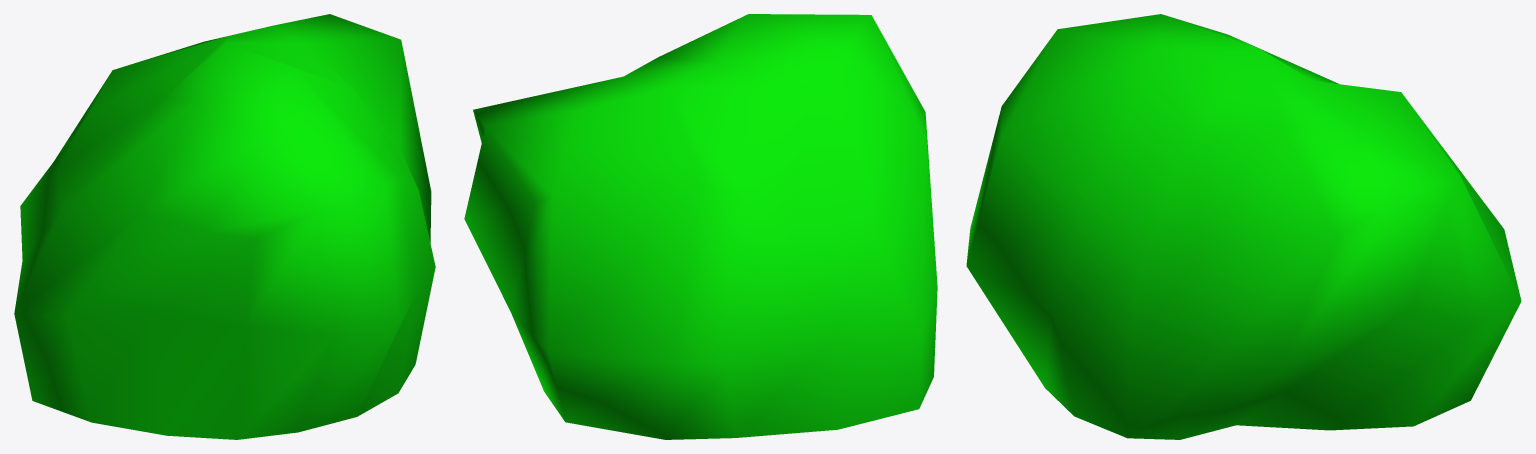
File: m_rock1.fbx
3 views of the same model, side by side, from view 1: azimuth 30°, elevation 25°; view 2: azimuth 150°, elevation 25°; view 3: azimuth 270°, elevation 25° (orthographic). The views are drawn at different scales.
Visible parts, largest first — view 1: m_rock1; view 2: m_rock1; view 3: m_rock1.
Part boxes in pixels (left/top/right/bottom): m_rock1: left=14, top=14, right=435, bottom=439; m_rock1: left=464, top=14, right=937, bottom=439; m_rock1: left=966, top=14, right=1521, bottom=439.
Bounding box in the file's own units: 1.49 × 1.06 × 1.61.
